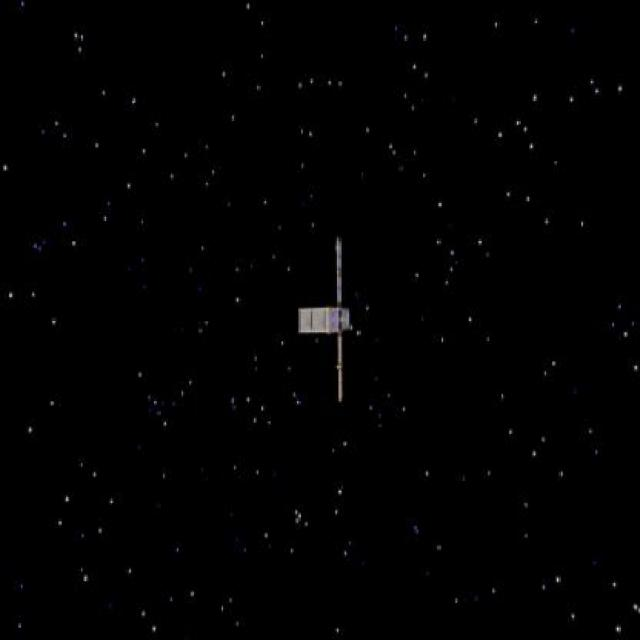satellite: (290, 232, 368, 410)
